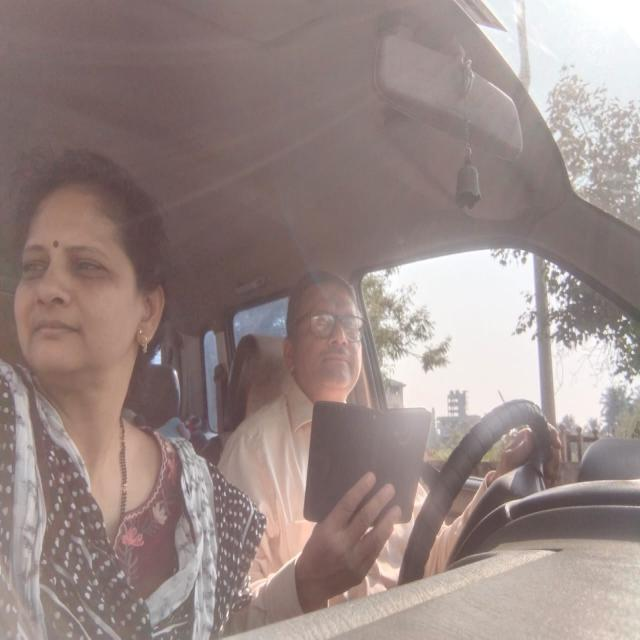mobile: (310, 402, 420, 524)
person: (10, 160, 155, 374), (275, 268, 369, 394)
